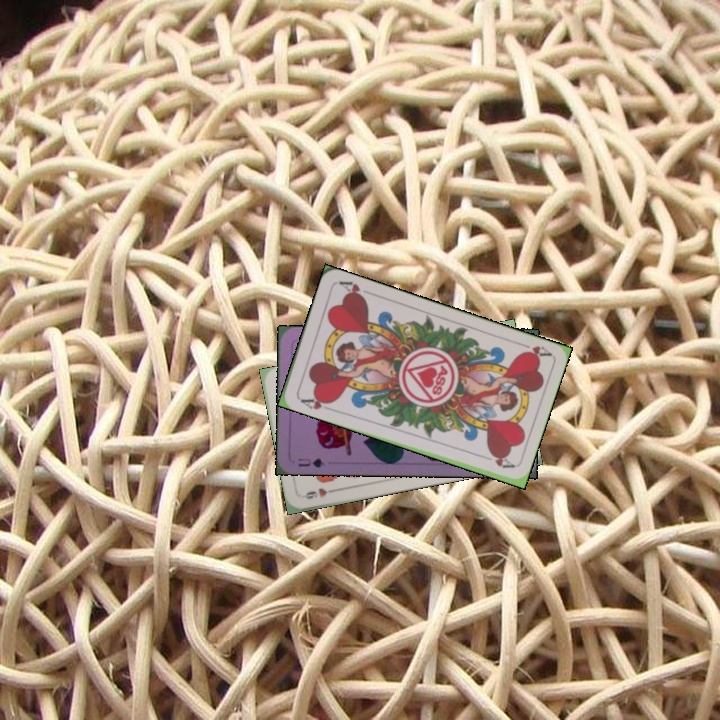GU: (294, 454, 326, 470)
H9: (299, 484, 339, 501)
HA: (513, 338, 553, 361), (295, 392, 336, 413)
